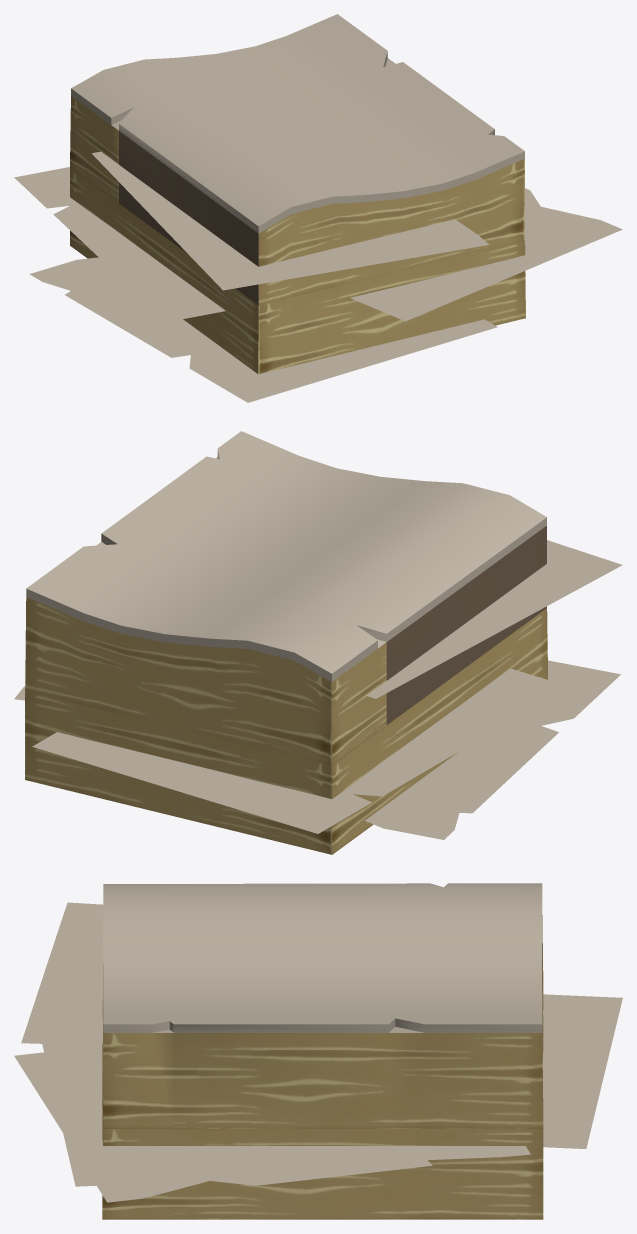
Rendered from Page_Stack_Large.fbx.
3 views of the same model, one above another, from view 1: azimuth 30°, elevation 25°; view 2: azimuth 150°, elevation 25°; view 3: azimuth 270°, elevation 25° (orthographic). The views are drawn at different scales.
Visible parts, largest first — view 1: Page_Stack_Large; view 2: Page_Stack_Large; view 3: Page_Stack_Large.
Boxes of the visible parts, x1,y1,x2,y2 form: Page_Stack_Large: (14,14,622,402); Page_Stack_Large: (14,431,622,854); Page_Stack_Large: (14,883,622,1219).
Bounding box in the file's own units: 31.76 × 11.72 × 32.85.
